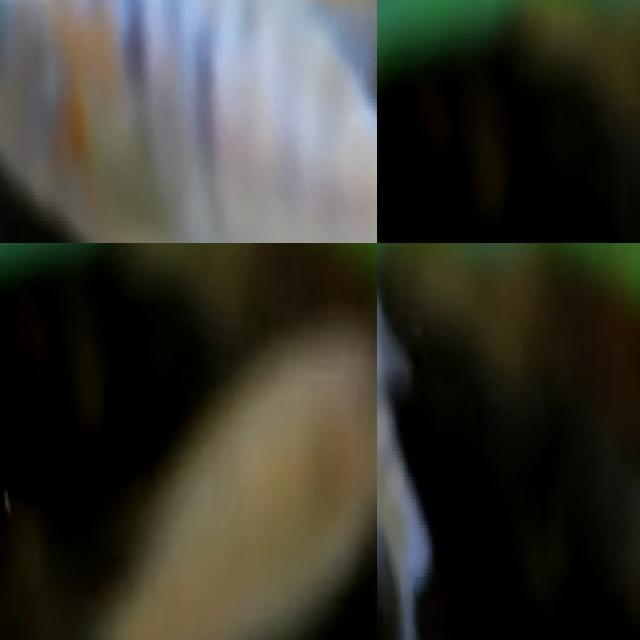fish: (83, 300, 377, 640), (0, 0, 377, 243)
